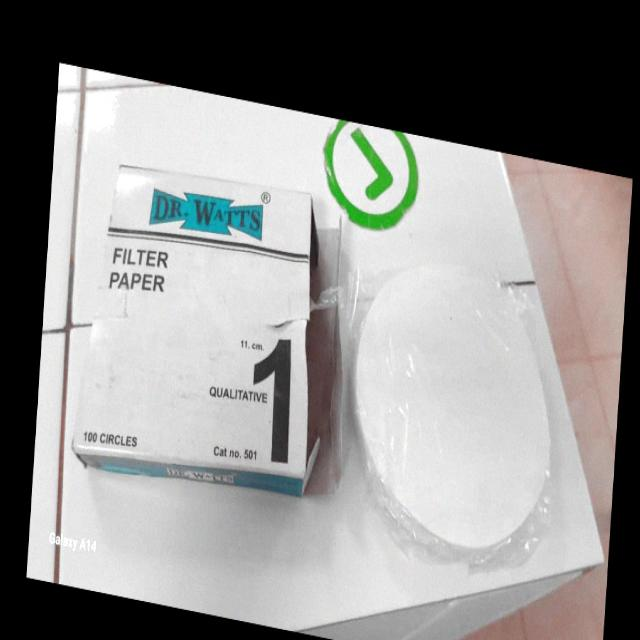Filter paper: (343, 240, 562, 573)
